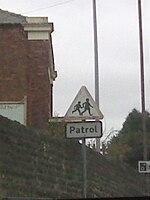School Ahead: (67, 80, 102, 142)
